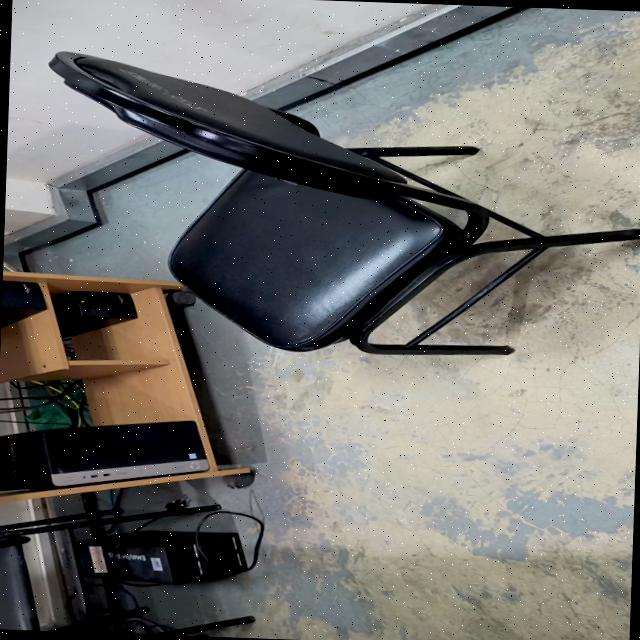Chair: (48, 52, 640, 355), (0, 544, 38, 630)
Cpu: (39, 420, 209, 486)
